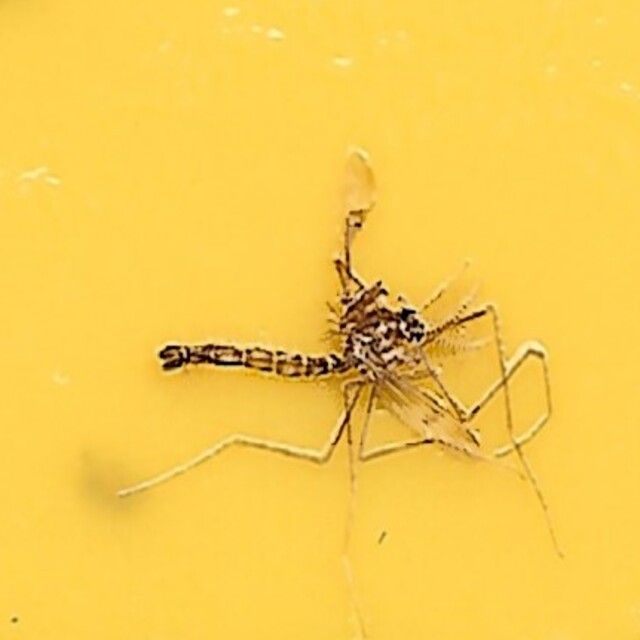Nematocera: (148, 177, 492, 463)
